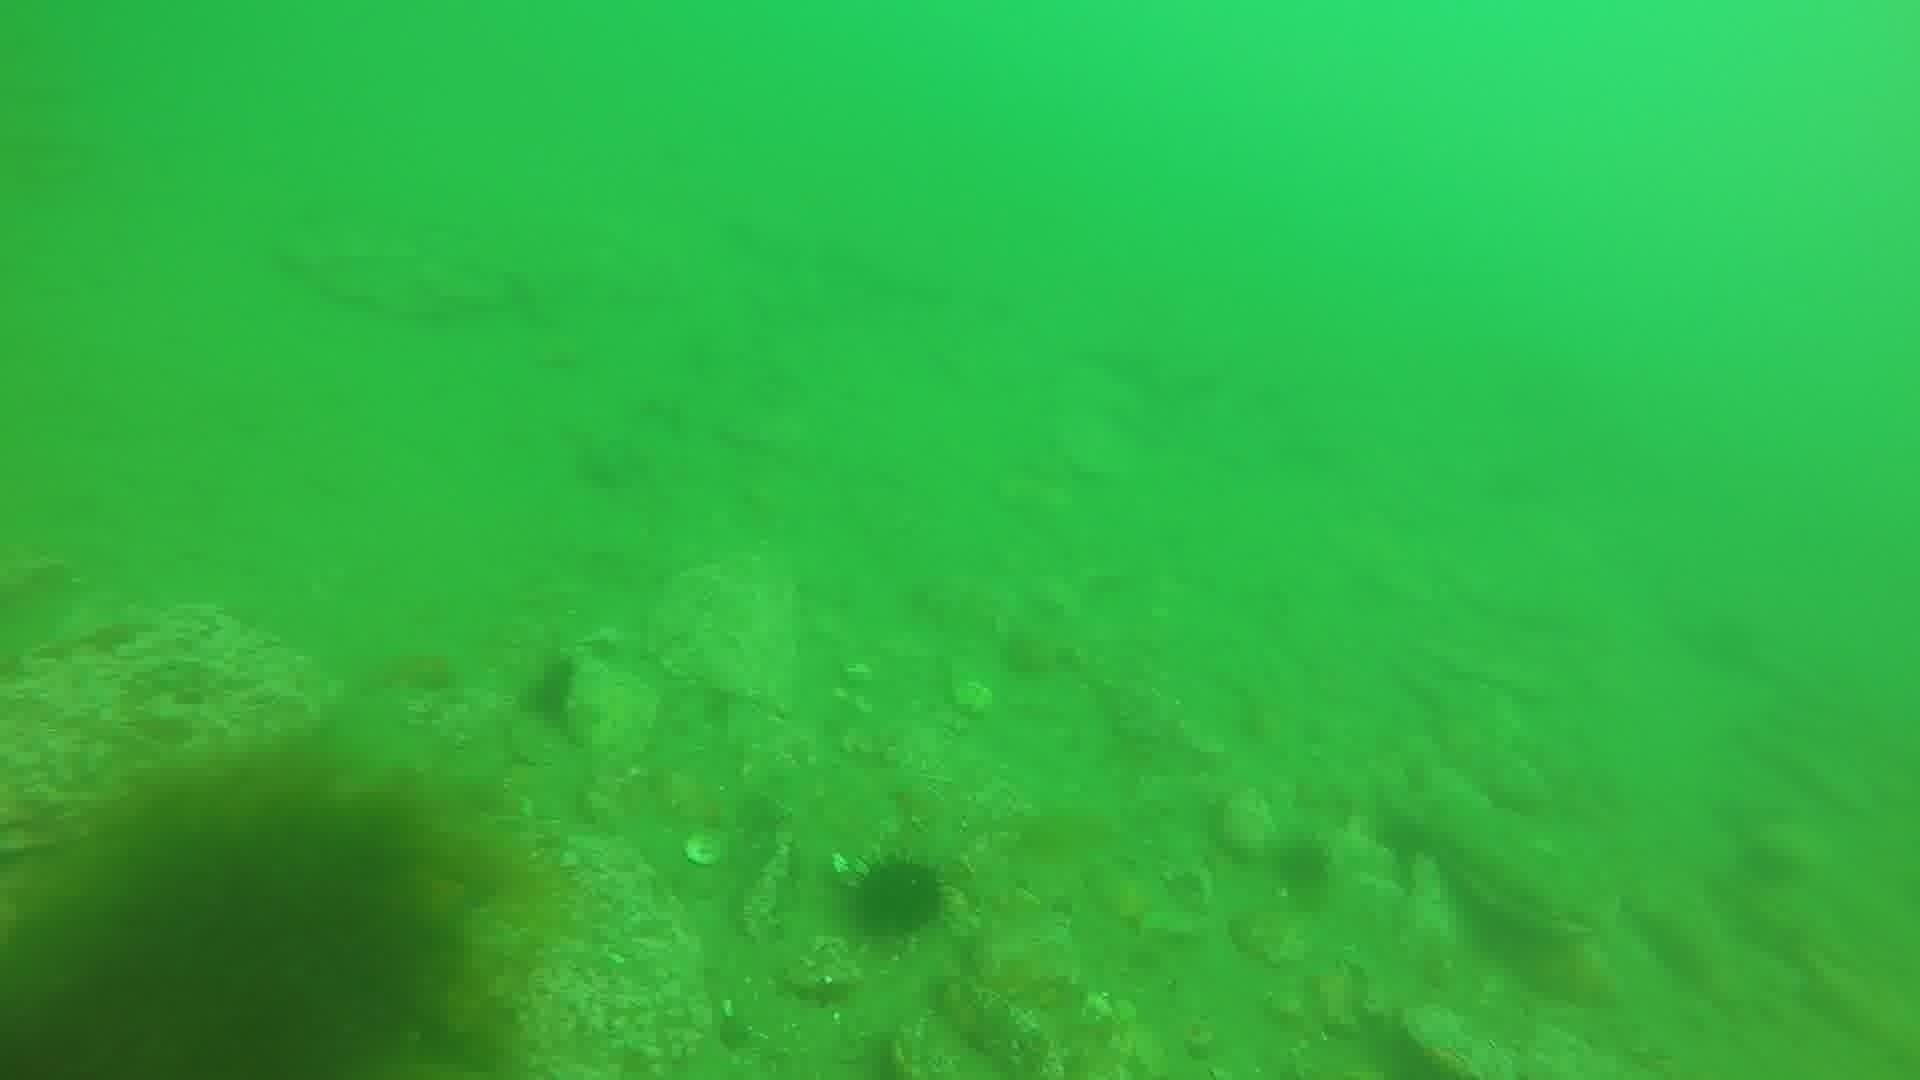echinus: (840, 851, 952, 947), (1266, 832, 1341, 909)
